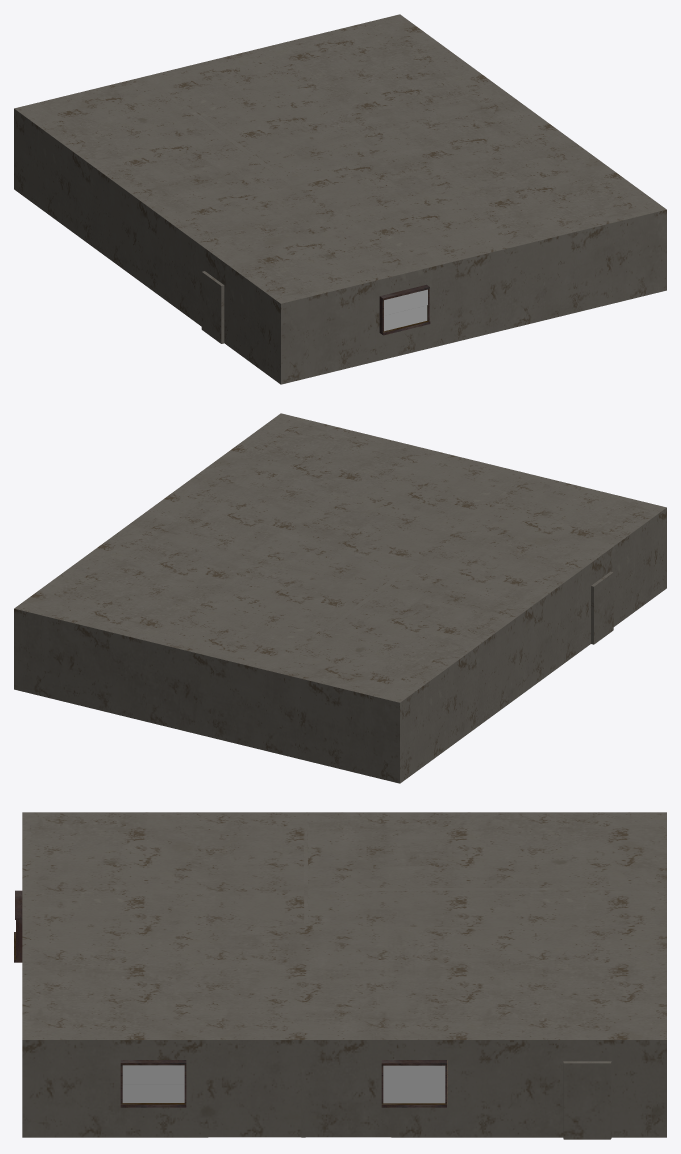
Rendered from neighbor house internal.fbx.
3 views of the same model, one above another, from view 1: azimuth 30°, elevation 25°; view 2: azimuth 150°, elevation 25°; view 3: azimuth 270°, elevation 25° (orthographic). The views are drawn at different scales.
Visible parts, largest first — view 1: Cube.041; view 2: Cube.041; view 3: Cube.041.
Boxes of the visible parts, bbox=[...] form: Cube.041: bbox=[14, 14, 666, 384]; Cube.041: bbox=[14, 413, 666, 783]; Cube.041: bbox=[14, 812, 666, 1139].
Bounding box in the file's own units: 1535 × 300 × 1818.
